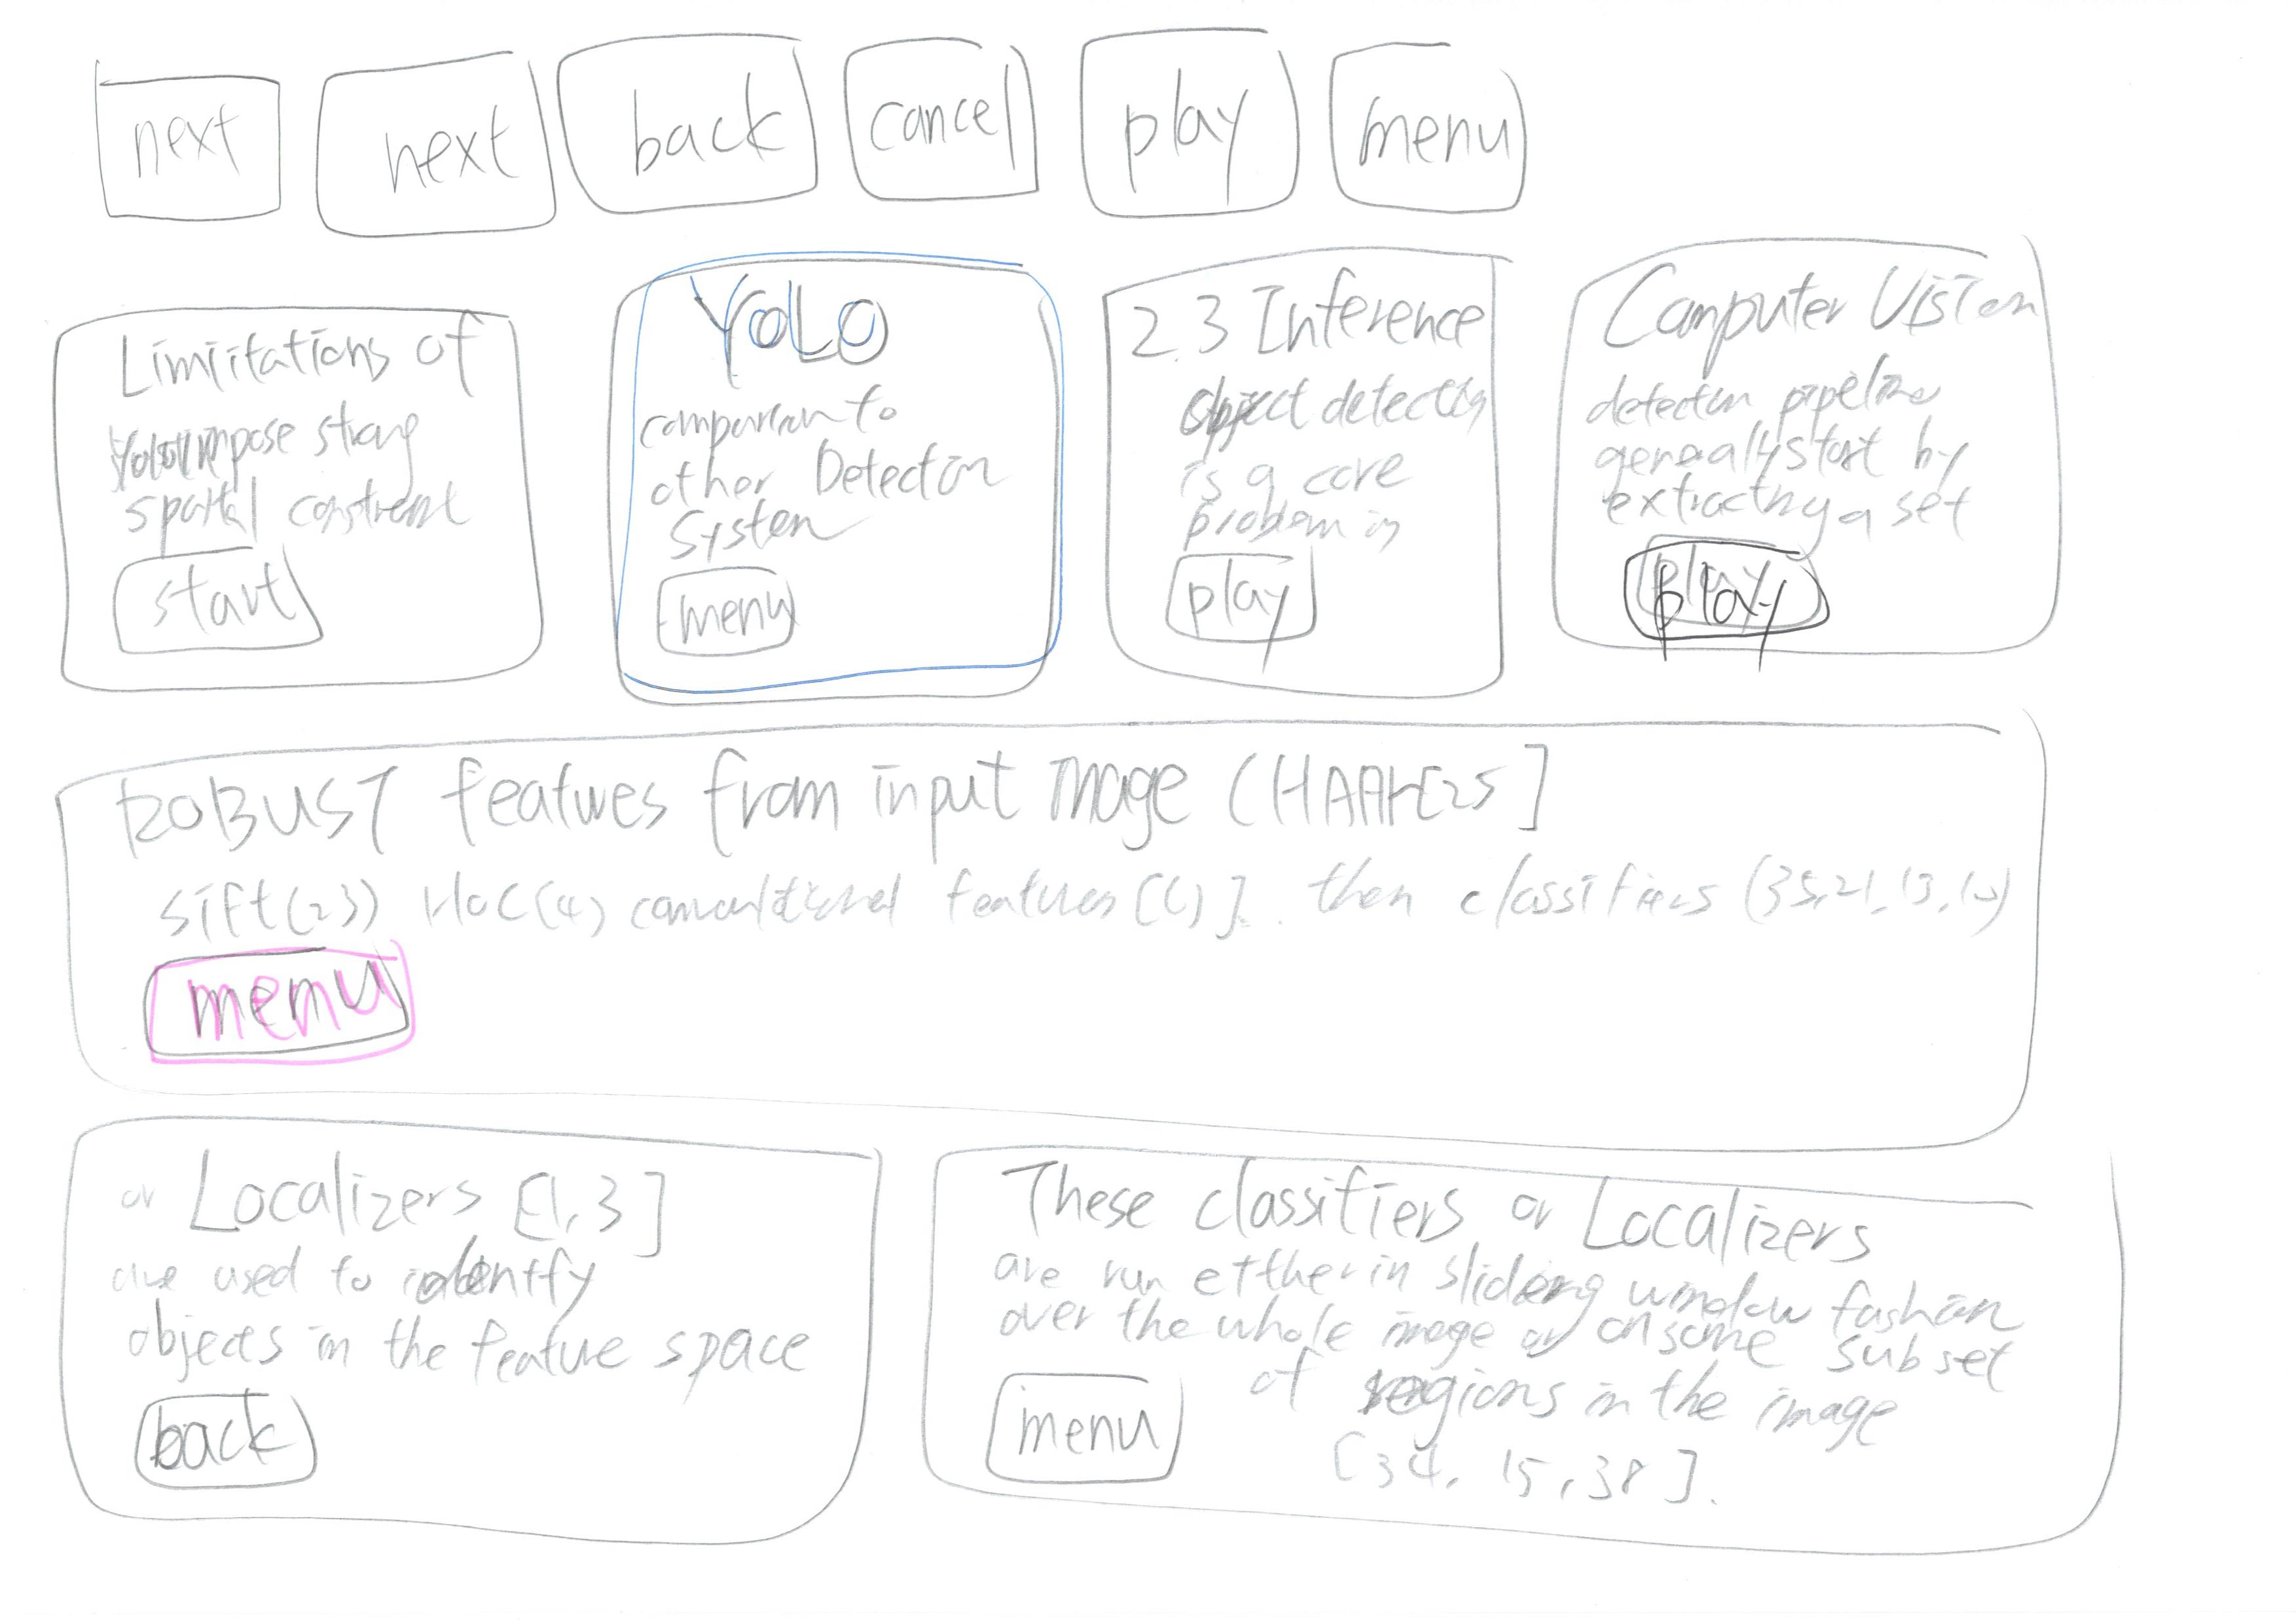back: (545, 2, 821, 225), (100, 1388, 352, 1512)
cancel: (835, 4, 1067, 244)
double: (909, 1116, 2183, 1582), (21, 1083, 905, 1591)
menu: (1306, 5, 1579, 237), (118, 956, 432, 1098), (962, 1350, 1239, 1503), (628, 564, 839, 670)
next: (292, 14, 575, 272), (51, 23, 295, 264)
play: (1053, 5, 1319, 236), (1598, 529, 1842, 675), (1139, 534, 1387, 659)
quadruple: (1529, 216, 2111, 714), (571, 230, 1083, 729), (1060, 223, 1570, 721), (28, 279, 577, 738)
row: (0, 1088, 2212, 1624), (7, 227, 2206, 726), (0, 731, 2203, 1171), (16, 9, 2185, 260)
single: (23, 726, 2173, 1167)
small-title: (100, 759, 1558, 851), (976, 1158, 1895, 1274), (121, 1149, 701, 1257), (1593, 278, 2024, 362), (93, 327, 480, 401), (1127, 283, 1482, 359), (719, 281, 911, 369)
start: (93, 538, 387, 691)
text: (1261, 1304, 2038, 1513), (985, 1243, 2024, 1390), (149, 854, 2018, 933), (107, 1237, 821, 1394), (1586, 373, 2009, 534), (629, 390, 1018, 557), (1167, 364, 1508, 536), (91, 401, 466, 538)
